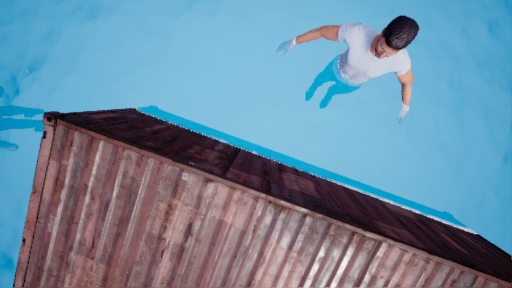person: (286, 17, 426, 134)
